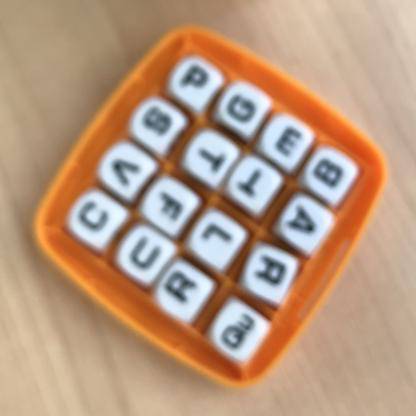a: (280, 199, 324, 240)
b: (312, 150, 345, 196)
c: (72, 192, 118, 240)
e: (269, 125, 312, 157)
f: (153, 184, 189, 228)
g: (223, 84, 267, 126)
l: (195, 210, 240, 259)
p: (174, 63, 216, 99)
q: (215, 304, 264, 354)
r: (159, 268, 204, 310), (252, 248, 289, 293)
s: (138, 100, 176, 140)
t: (234, 159, 277, 207), (192, 135, 232, 183)
u: (128, 229, 166, 273)
v: (102, 142, 149, 196)
